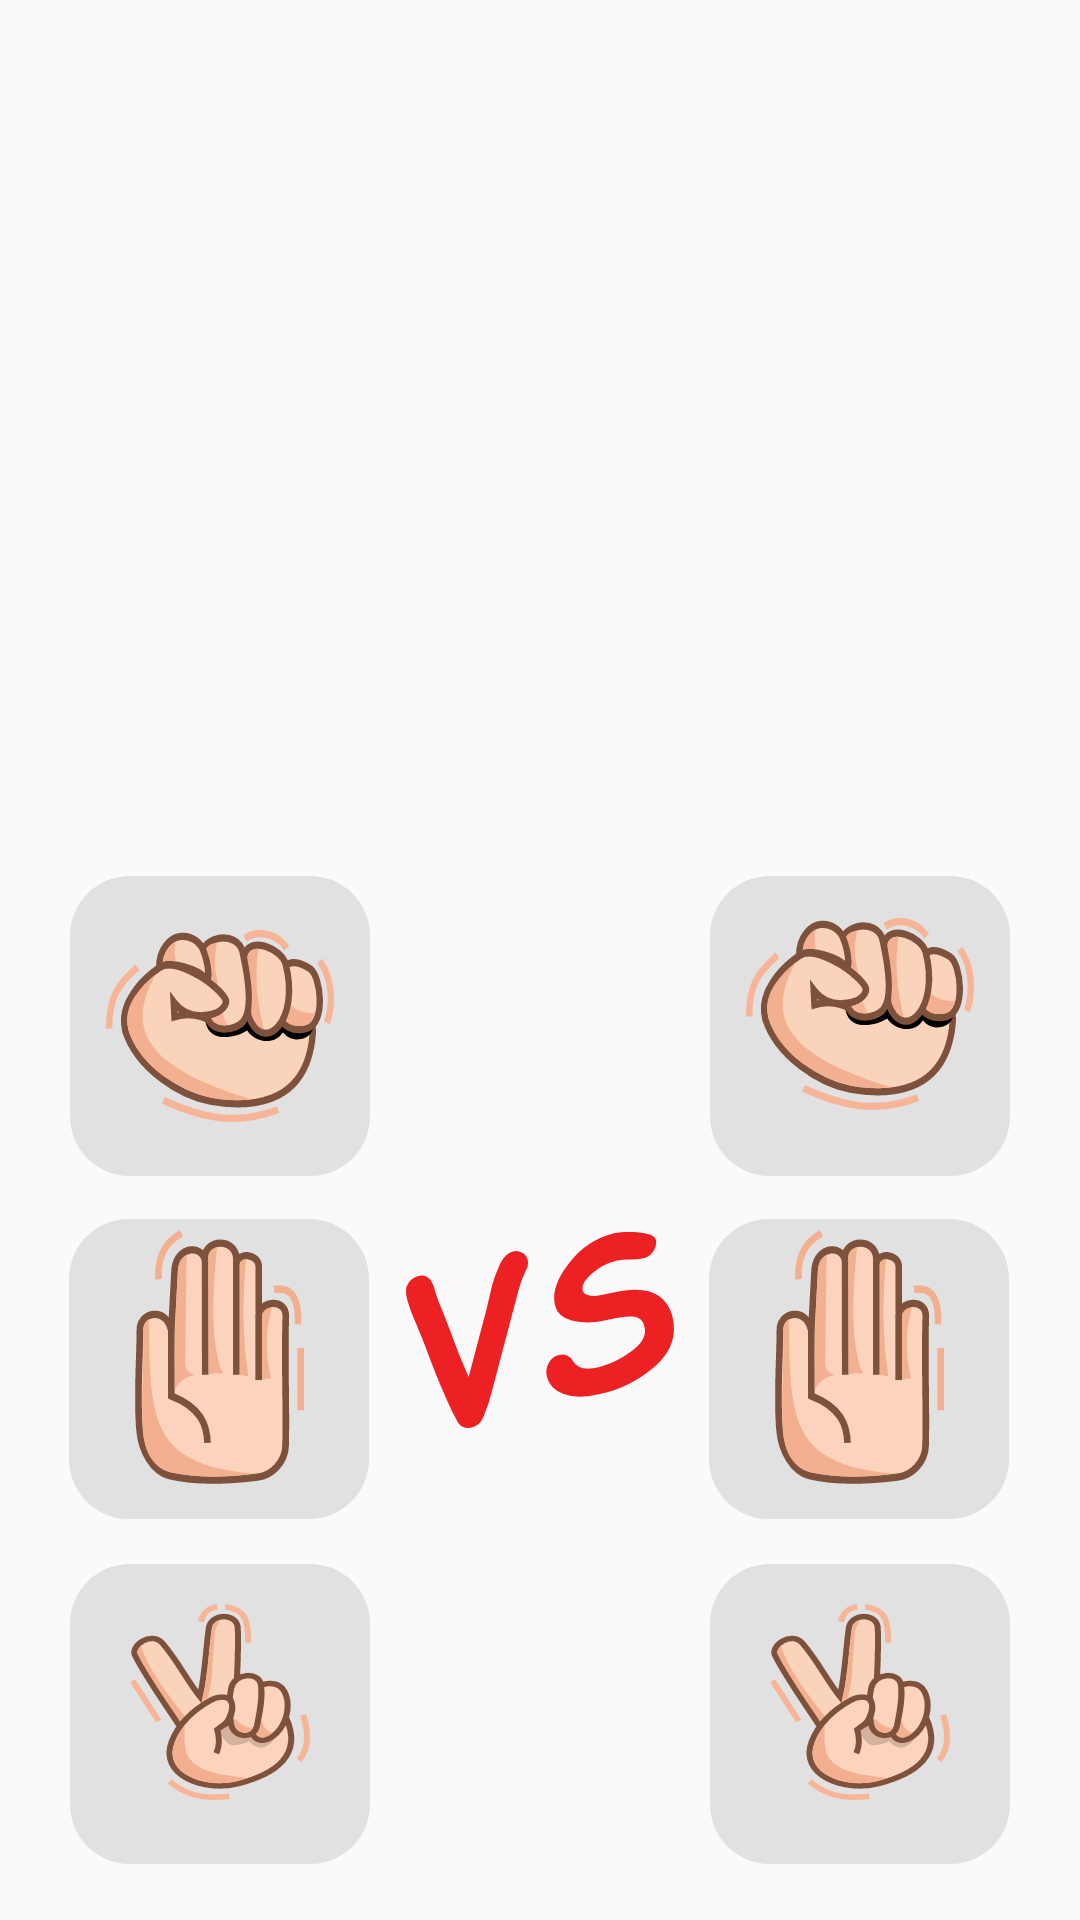

Icons on this 1080*1920 Android screen, each with its box as (x1, y1, x2, y2):
batu but: (746, 918, 974, 1110), (106, 930, 334, 1122)
gunting computer: (130, 1604, 310, 1800), (770, 1604, 950, 1800)
paper but: (135, 1230, 304, 1484), (775, 1230, 944, 1484)
